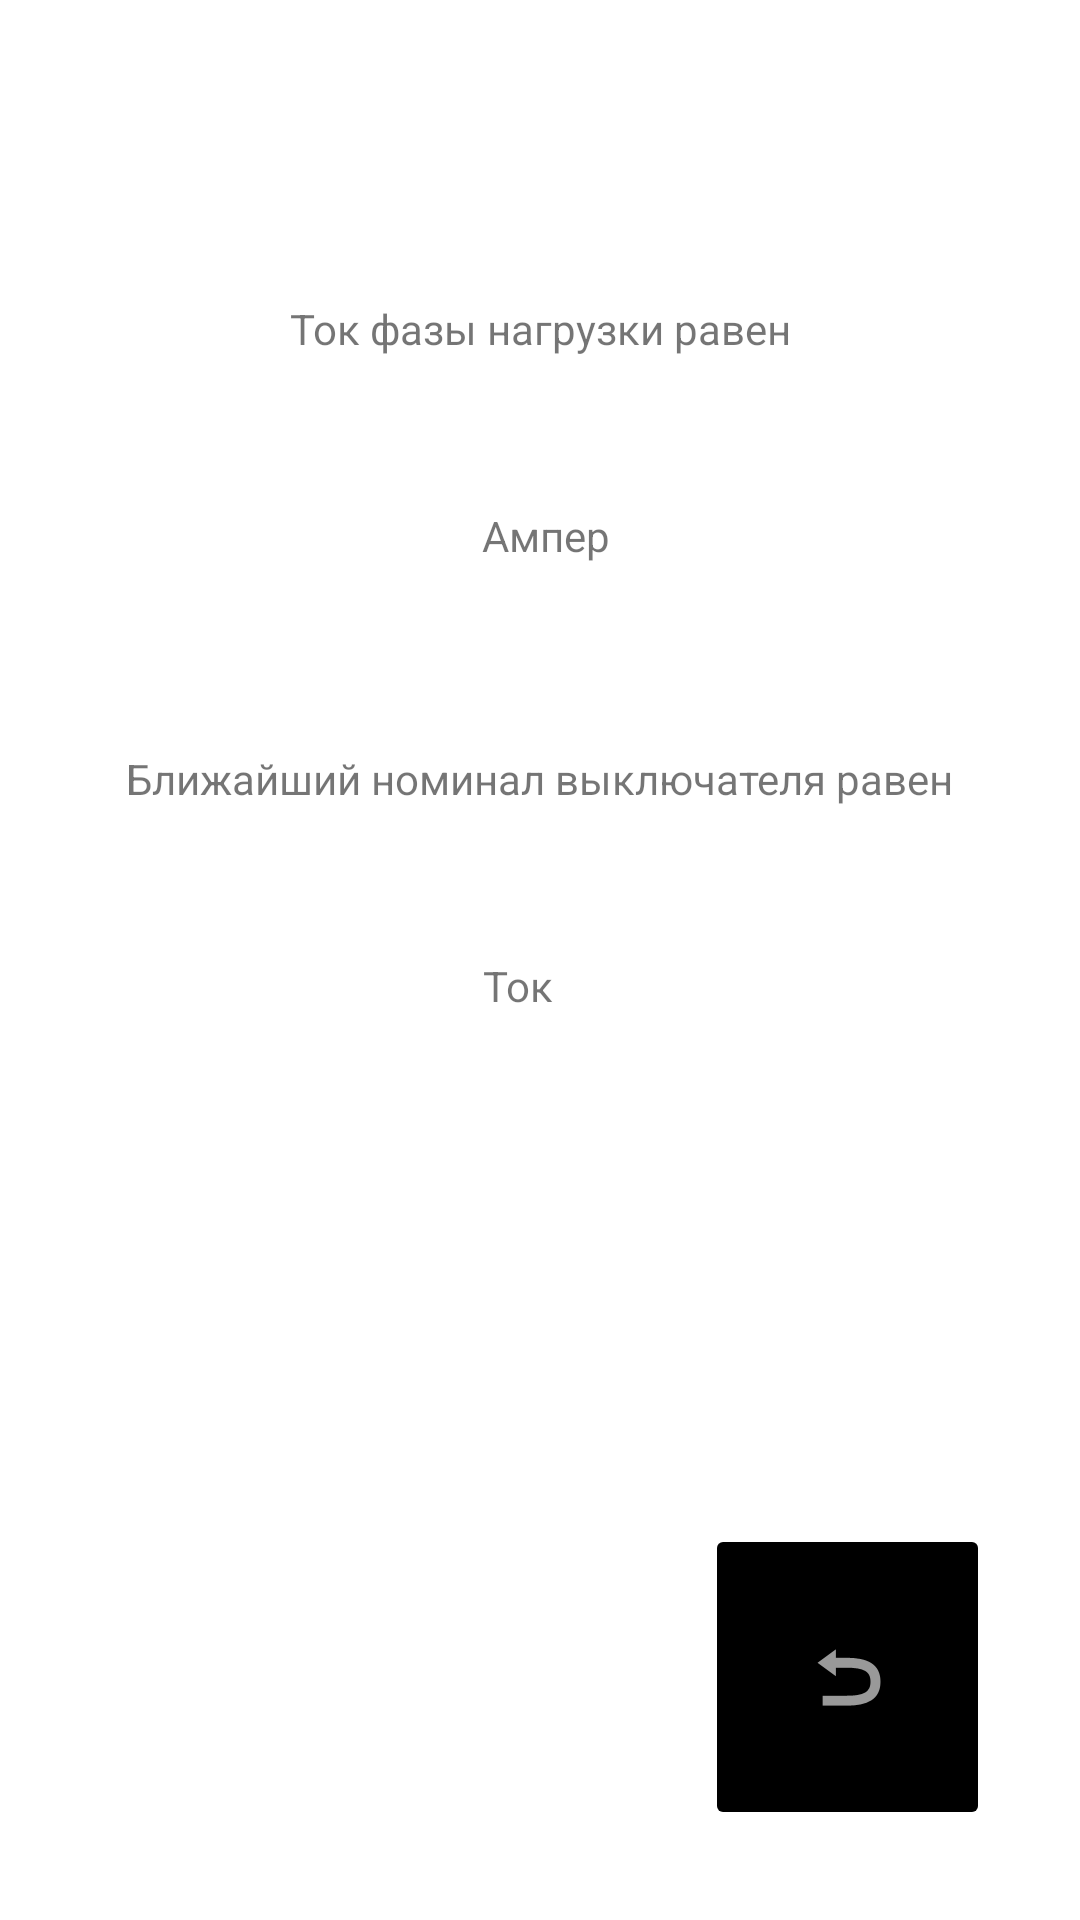

Where icons sit on this 1080w x 1920h app screen, as [left=x1, top=y1, right=x2, bottom=y2]:
backswitcher: [left=717, top=1542, right=978, bottom=1812]
